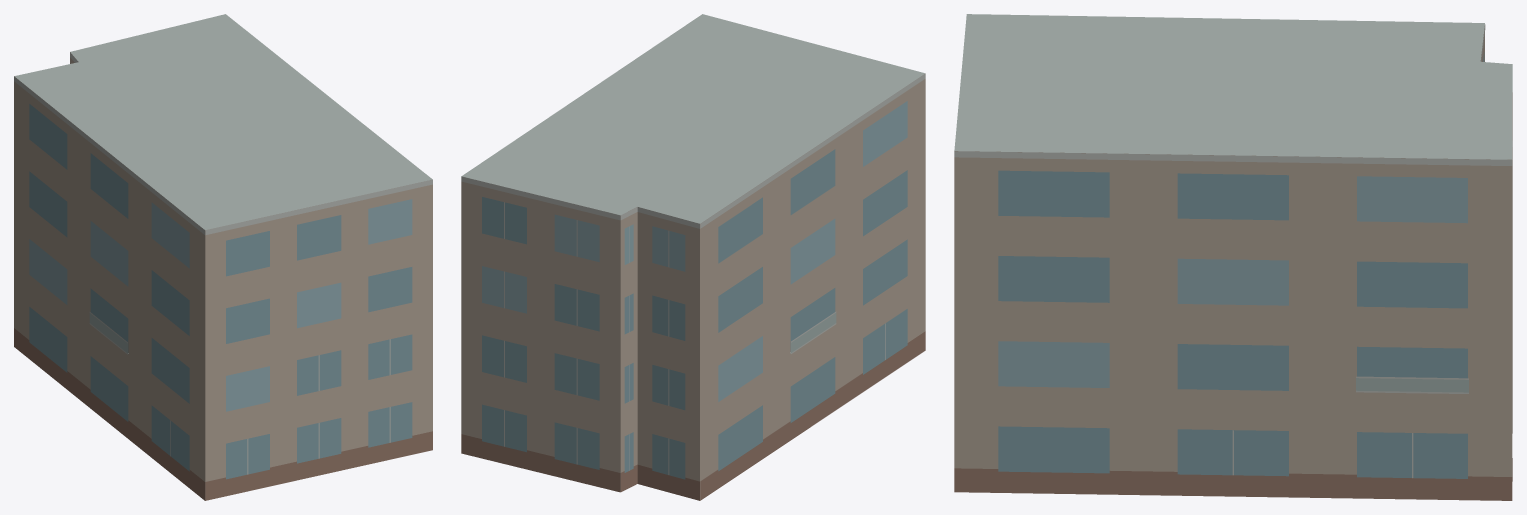
Rendered from survey-upis-32761110.glb.
3 renders of one model, left to right at view 1: azimuth 30°, elevation 25°; view 2: azimuth 150°, elevation 25°; view 3: azimuth 270°, elevation 25°, orthographic. The views are drawn at different scales.
Parts seen in each view (by area): view 1: survey-upis-32761110.tmp; view 2: survey-upis-32761110.tmp; view 3: survey-upis-32761110.tmp.
Boxes of the visible parts, left/top/right/bottom form: survey-upis-32761110.tmp: left=14, top=14, right=432, bottom=500; survey-upis-32761110.tmp: left=461, top=14, right=925, bottom=500; survey-upis-32761110.tmp: left=954, top=14, right=1512, bottom=500.
Size of the model in its own units: 12.02 by 13.1 by 19.44.
